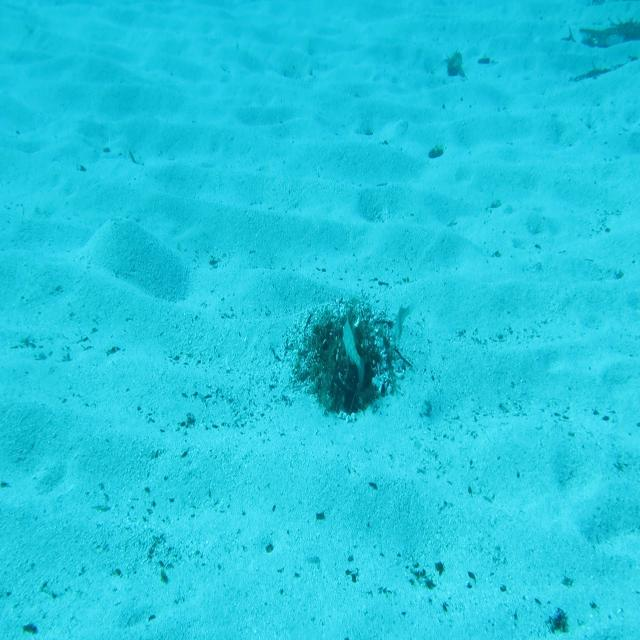NIP_CORE: (342, 318, 368, 390)
female: (393, 301, 414, 351)
nest: (298, 298, 405, 413)
